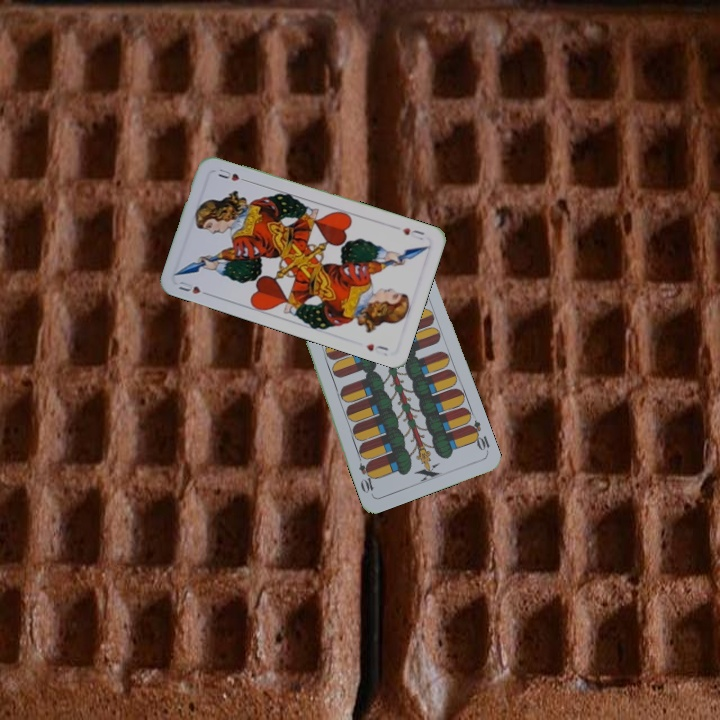E10: (464, 416, 492, 456)
HU: (175, 277, 213, 299), (398, 224, 428, 243)
